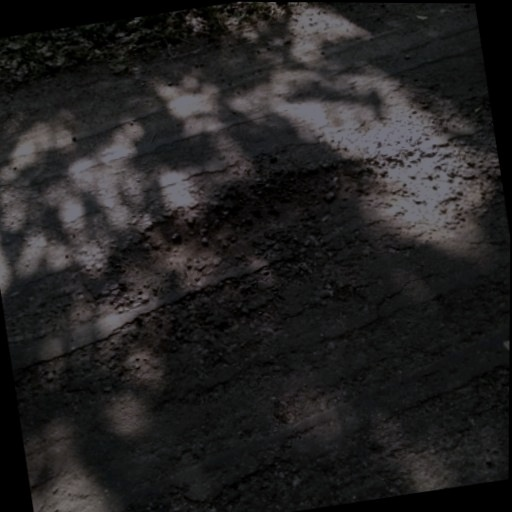pothole: (97, 144, 409, 304)
